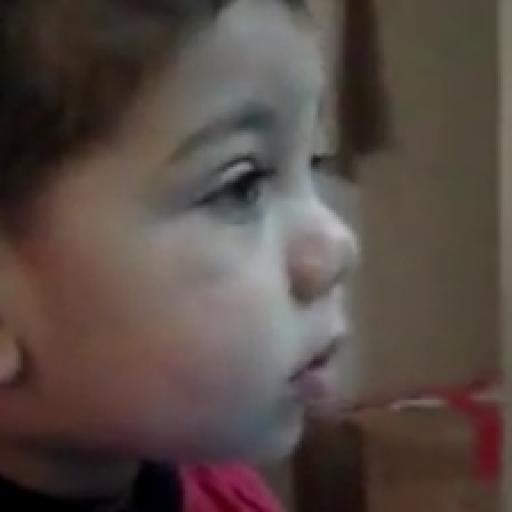Autism: (32, 25, 512, 512)
